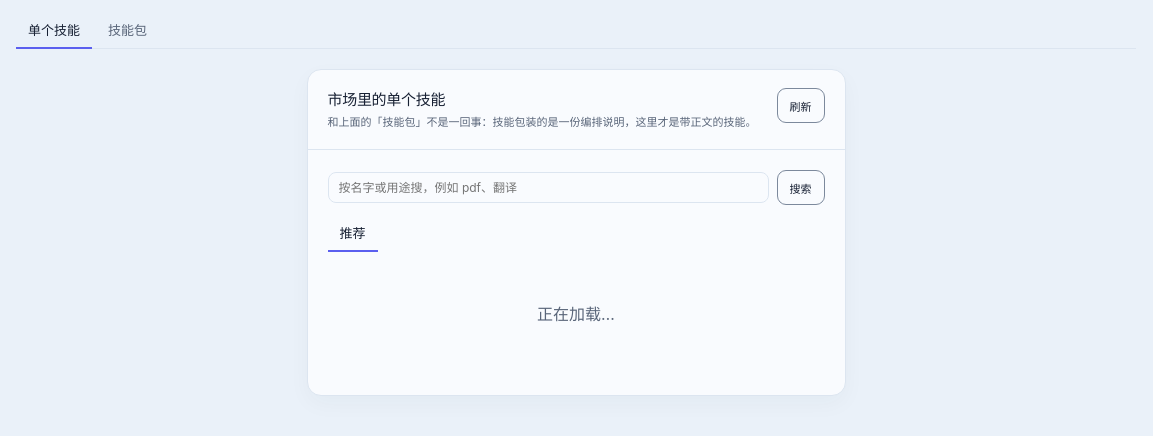
Test: 技能市场 · 技能包 › 上游没给总数就说没给，不拿本页条数冒充「共 N 个」
What coordinates should you click on to do the following:
click the tab with test id "hub-tab-pack"
I would click on:
 (128, 30)
Its box is [96,12,159,49].
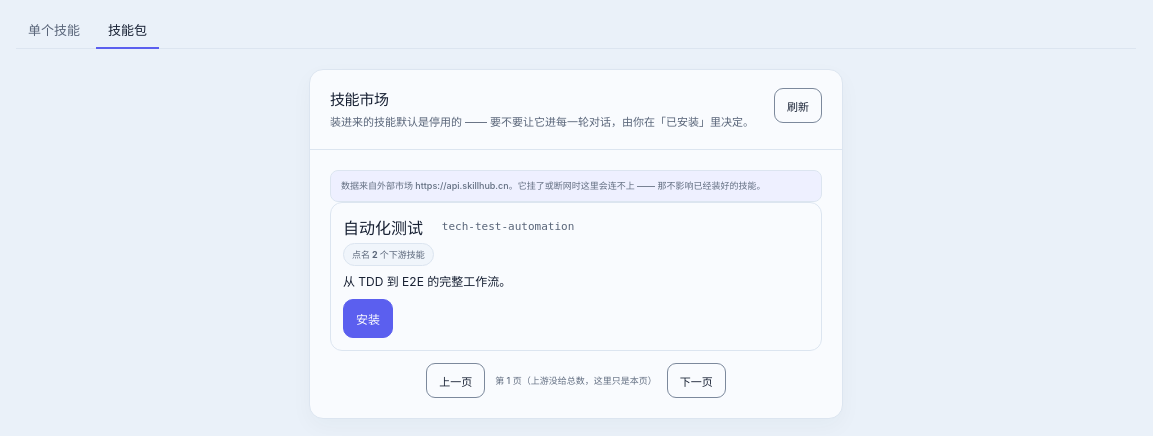
expect the text "自动化测试" is shown: met, box [343,215,434,239]
expect the text "第 1 页（上游没给总数，这里只是本页）" is shown: met, box [495,374,657,388]
